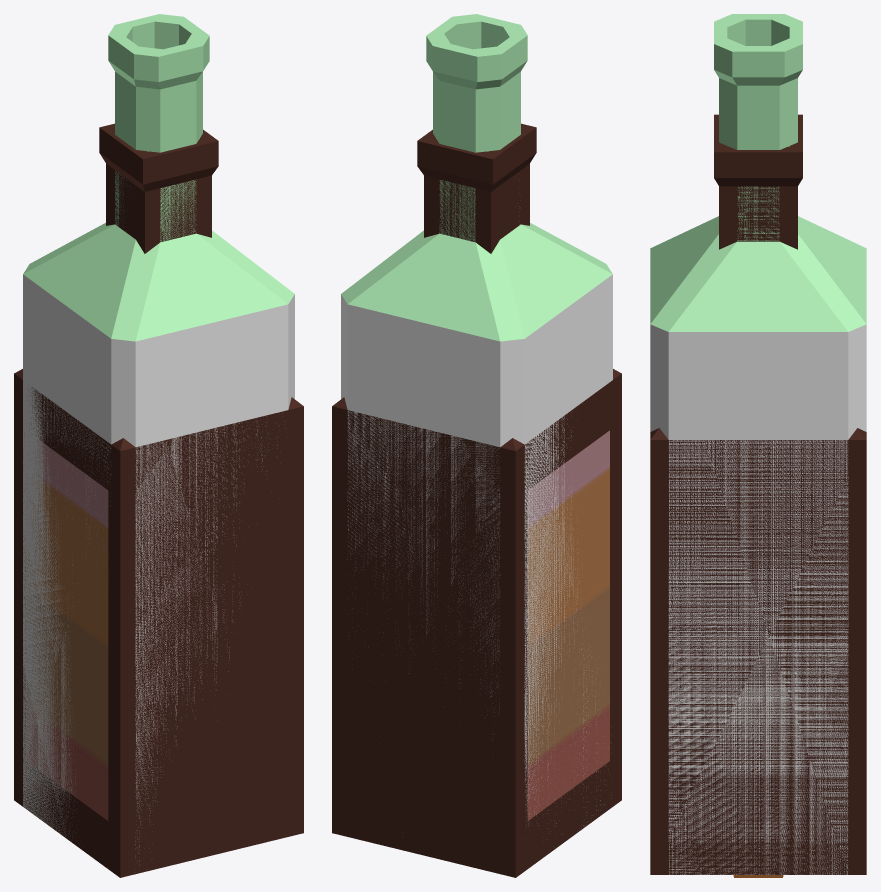
The model's file is Bottle_G.fbx.
3 renders of one model, left to right at view 1: azimuth 30°, elevation 25°; view 2: azimuth 150°, elevation 25°; view 3: azimuth 270°, elevation 25°, orthographic.
Visible parts, largest first — view 1: Bottle_01, Bottle_03; view 2: Bottle_01, Bottle_03; view 3: Bottle_03, Bottle_01.
Part boxes in pixels (x1,y1,x2,y2): Bottle_01: (14,123,303,877); Bottle_03: (23,14,294,861); Bottle_01: (332,123,621,877); Bottle_03: (341,14,612,825); Bottle_03: (650,14,866,874); Bottle_01: (650,114,866,874).
Size of the model in its own units: 27.27 by 116 by 27.27.
